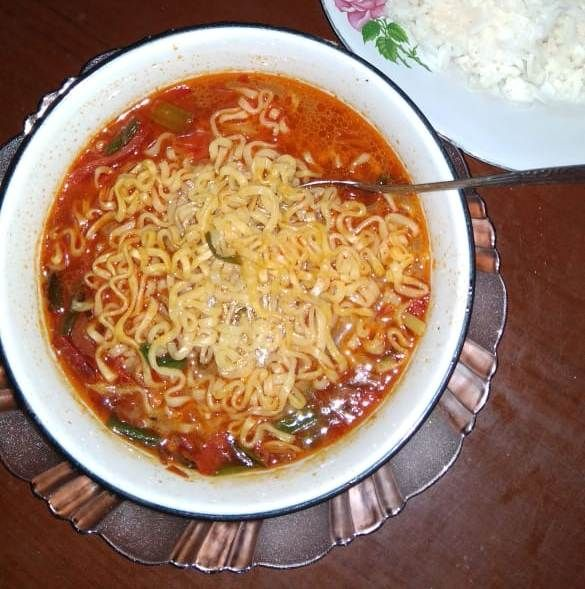Mie: (80, 121, 431, 444)
